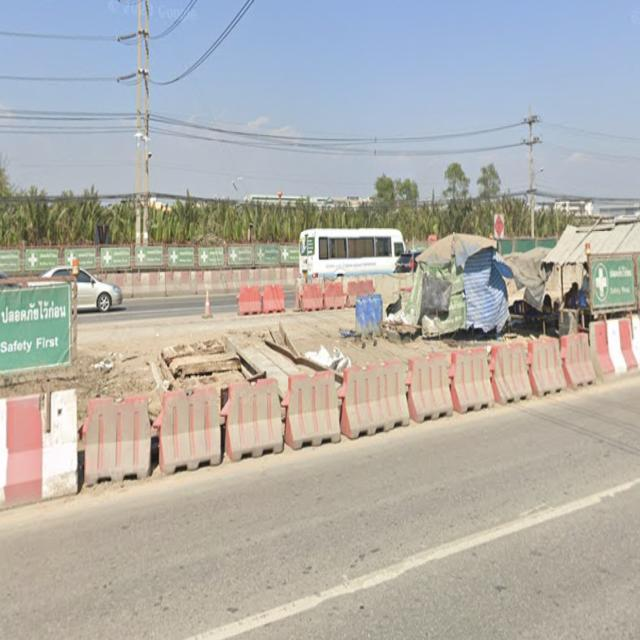fallen_object: (137, 385, 298, 465), (0, 385, 83, 514), (315, 353, 424, 435), (72, 385, 152, 494), (536, 309, 640, 391), (470, 336, 574, 404), (390, 346, 492, 415), (277, 359, 345, 446), (292, 273, 388, 313), (230, 277, 291, 322)
